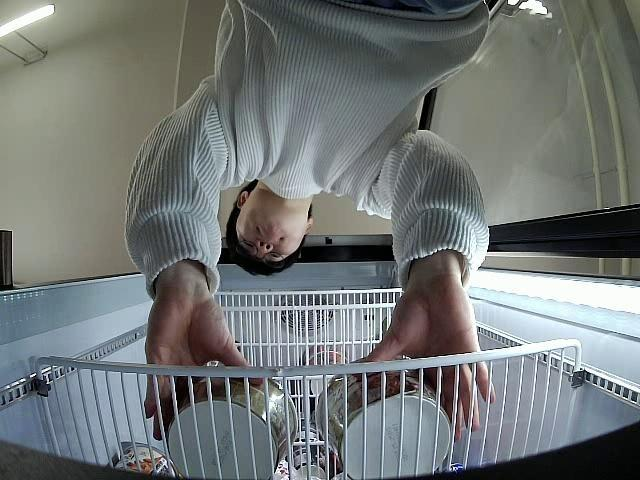03_chapagetti_L: (316, 353, 452, 480), (165, 378, 298, 480)
